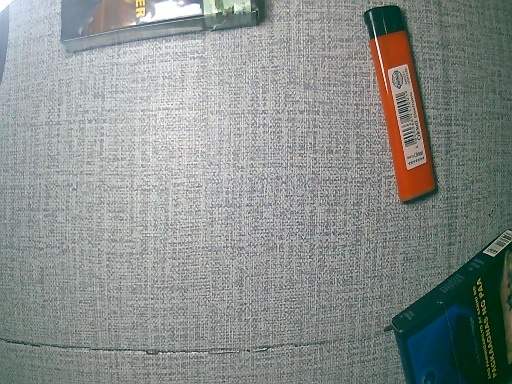cardboard: (382, 225, 512, 384), (50, 1, 281, 46)
trash: (363, 1, 441, 211)
